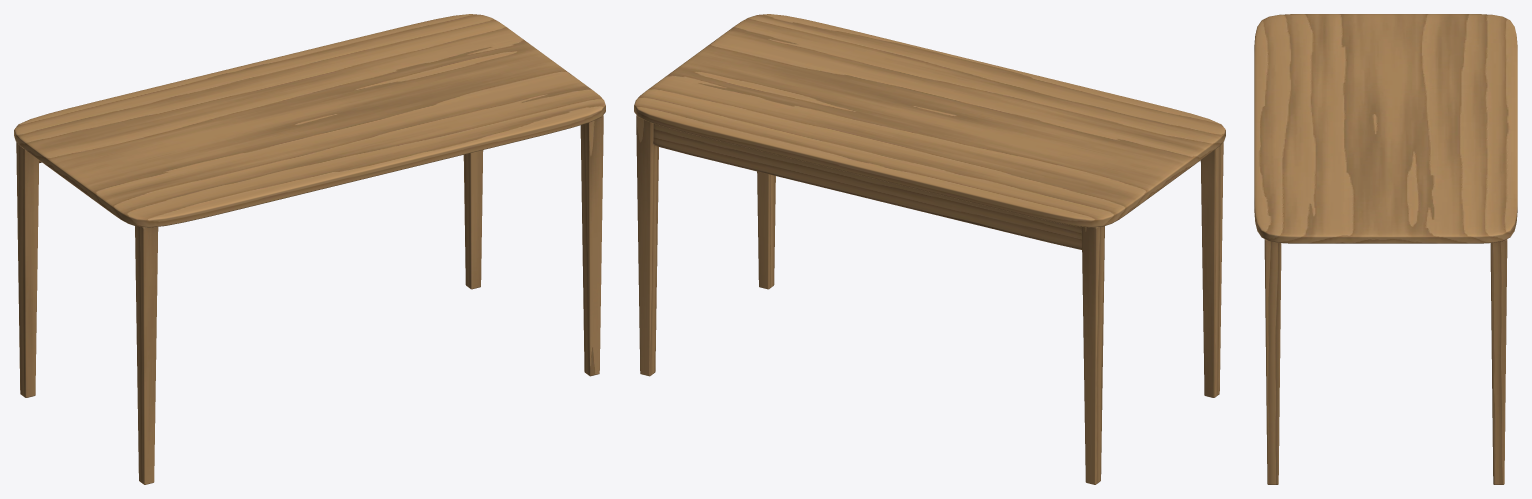
File: oak-classic.glb
The picture shows the model from 3 angles, left to right: view 1: azimuth 30°, elevation 25°; view 2: azimuth 150°, elevation 25°; view 3: azimuth 270°, elevation 25°; orthographic projection. The views are drawn at different scales.
Parts seen in each view (by area): view 1: wood_x, wood_v; view 2: wood_x, wood_v; view 3: wood_x, wood_v.
Boxes of the visible parts, x1=… form: wood_x: x1=14, y1=14, x2=605, y2=227; wood_v: x1=16, y1=115, x2=603, y2=484; wood_x: x1=634, y1=14, x2=1225, y2=249; wood_v: x1=636, y1=115, x2=1223, y2=484; wood_x: x1=1254, y1=14, x2=1517, y2=243; wood_v: x1=1264, y1=239, x2=1507, y2=484.
Bounding box in the file's own units: 1.4 × 0.75 × 0.7.
2 materials, 2 textured.
